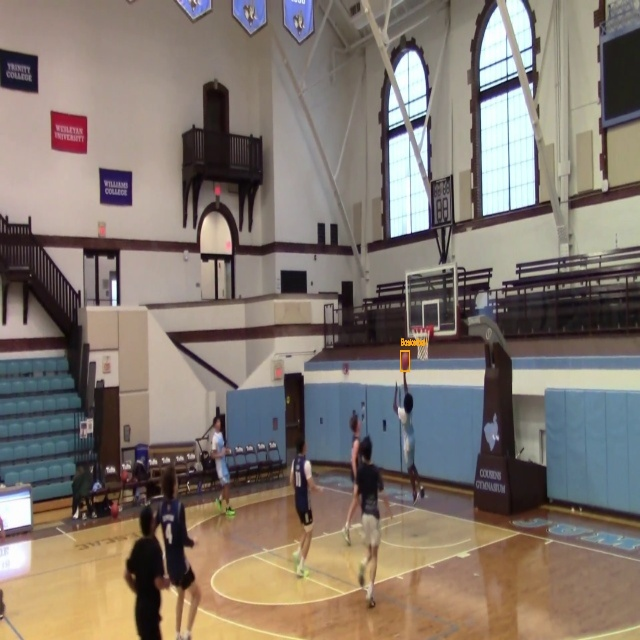Basketball: (401, 351, 410, 371)
